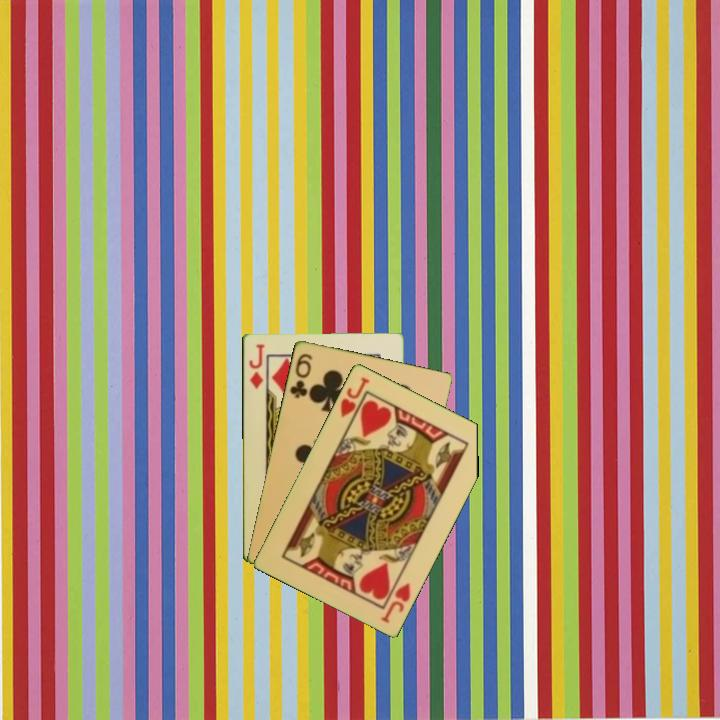6c: (286, 350, 315, 401)
Jd: (245, 341, 267, 391)
Jh: (377, 579, 413, 625), (337, 373, 372, 420)
